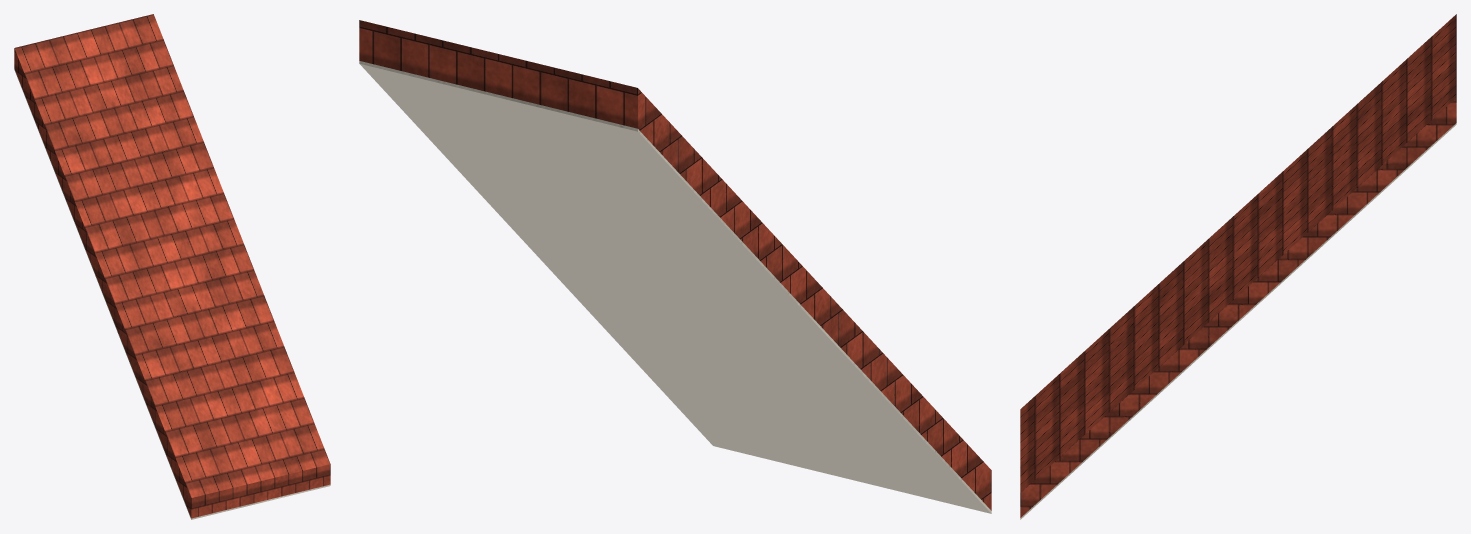
Rendered from roof_slope.glb.
The picture shows the model from 3 angles, left to right: view 1: azimuth 30°, elevation 25°; view 2: azimuth 150°, elevation 25°; view 3: azimuth 270°, elevation 25°; orthographic projection. The views are drawn at different scales.
Visible parts, largest first — view 1: roof_slope_roof_tiles, roof_slope_plaster; view 2: roof_slope_plaster, roof_slope_roof_tiles; view 3: roof_slope_roof_tiles, roof_slope_plaster.
Boxes of the visible parts, <box> form: roof_slope_roof_tiles: <box>14,14,330,518</box>; roof_slope_plaster: <box>14,69,330,519</box>; roof_slope_plaster: <box>359,61,991,513</box>; roof_slope_roof_tiles: <box>359,20,991,510</box>; roof_slope_roof_tiles: <box>1020,14,1456,517</box>; roof_slope_plaster: <box>1020,123,1456,519</box>.
Bounding box in the file's own units: 2 × 4.7 × 4.4.
Materials: 2 (2 with a texture image).
